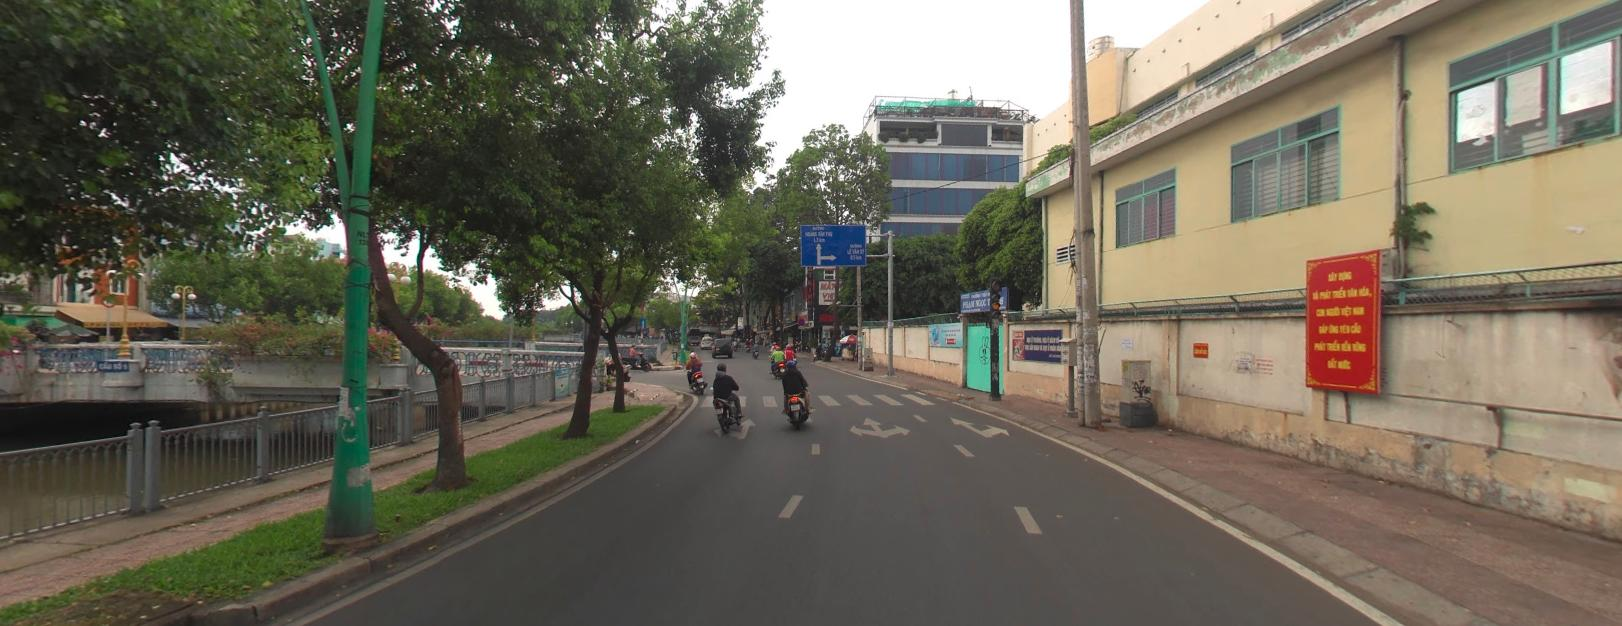Cam dung va do: (798, 316, 804, 322)
